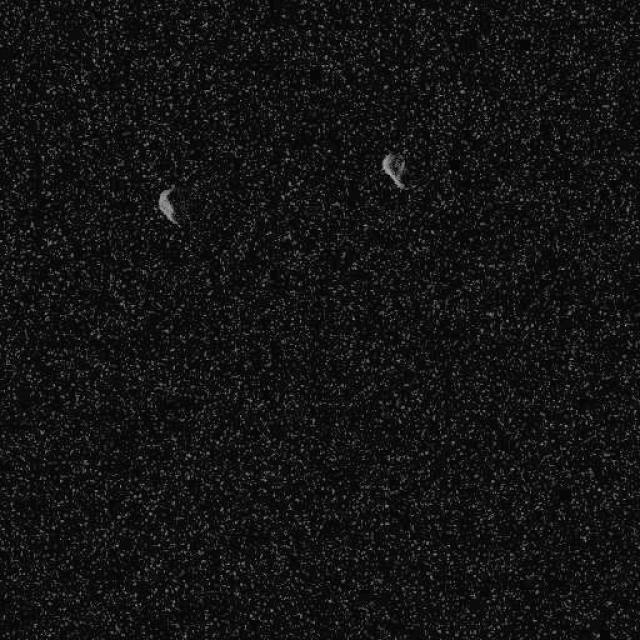D2: (380, 150, 409, 190), (156, 184, 180, 226)
